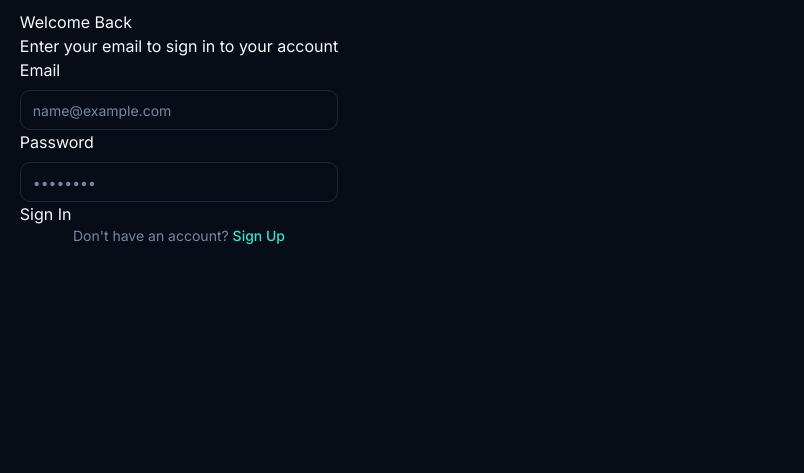
Authentication › Sign In Page › should show error for invalid credentials
Expected: the password field labelled "Password" is shown, [20, 162, 338, 202]
Type "invalid@example.com" into the field labelled "Email" at (179, 110), box [20, 90, 338, 130]
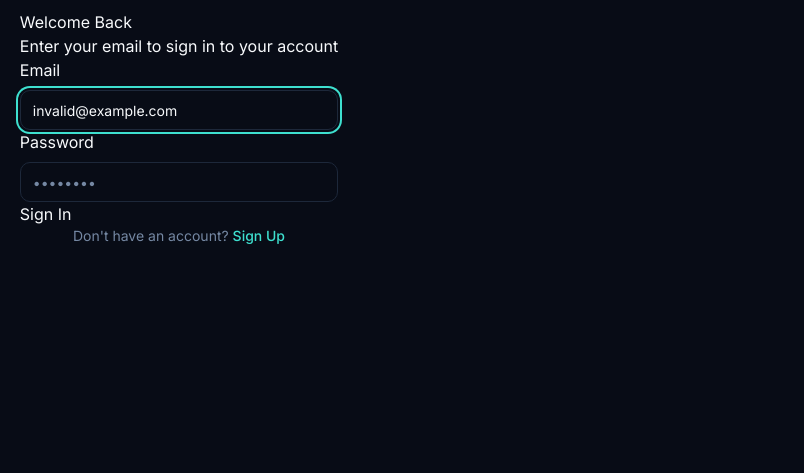
Type "wrongpassword" into the password field labelled "Password" at (179, 182), box [20, 162, 338, 202]
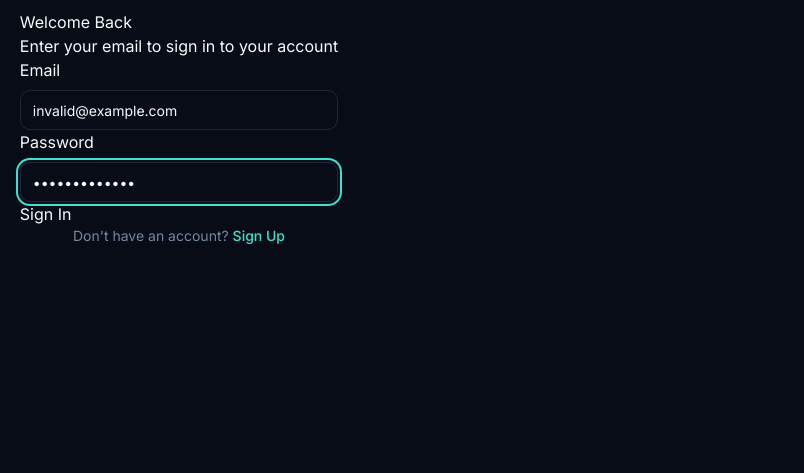
Click the submit button at (46, 214), box [20, 202, 72, 226]
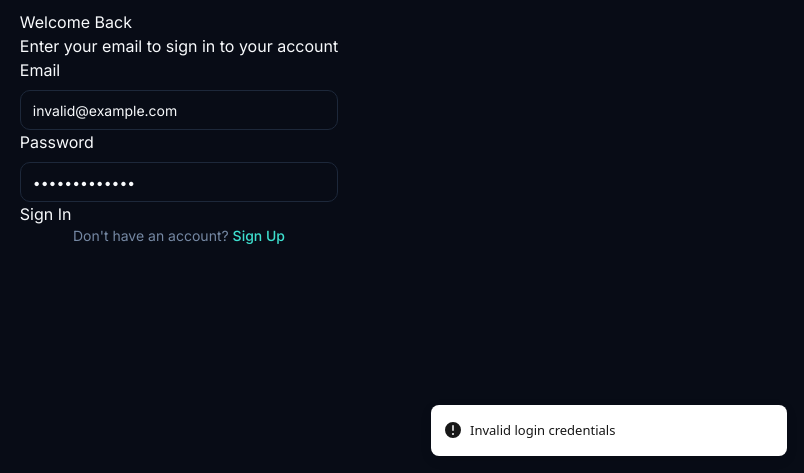
Now the text "Invalid login credentials" is shown, box [470, 420, 615, 440]
